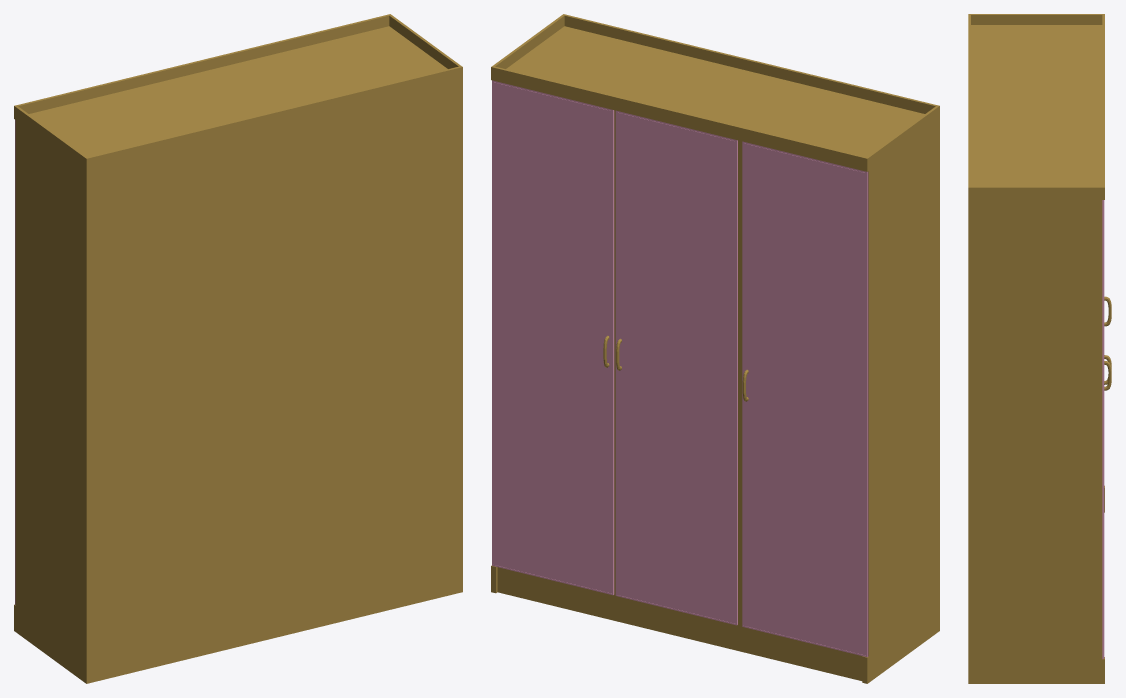
File: Lemari.fbx
3 views of the same model, side by side, from view 1: azimuth 30°, elevation 25°; view 2: azimuth 150°, elevation 25°; view 3: azimuth 270°, elevation 25° (orthographic). The views are drawn at different scales.
Visible parts, largest first — view 1: Cube.007; view 2: Cube.007; view 3: Cube.007.
Part boxes in pixels (x1=…): Cube.007: x1=14, y1=14, x2=462, y2=683; Cube.007: x1=491, y1=14, x2=939, y2=683; Cube.007: x1=968, y1=14, x2=1111, y2=683.
Bounding box in the file's own units: 150 × 200 × 52.43.
